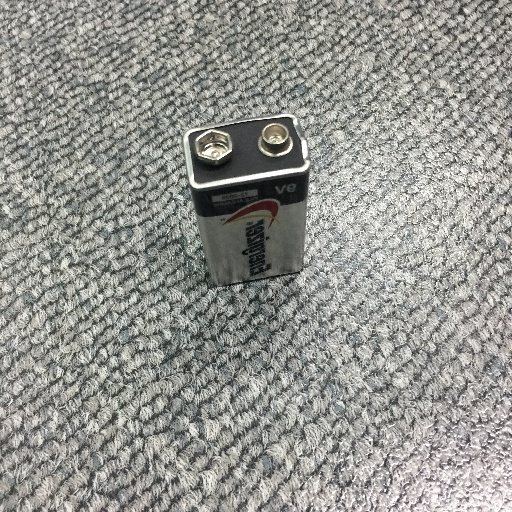Battery_3: (176, 112, 340, 307)
